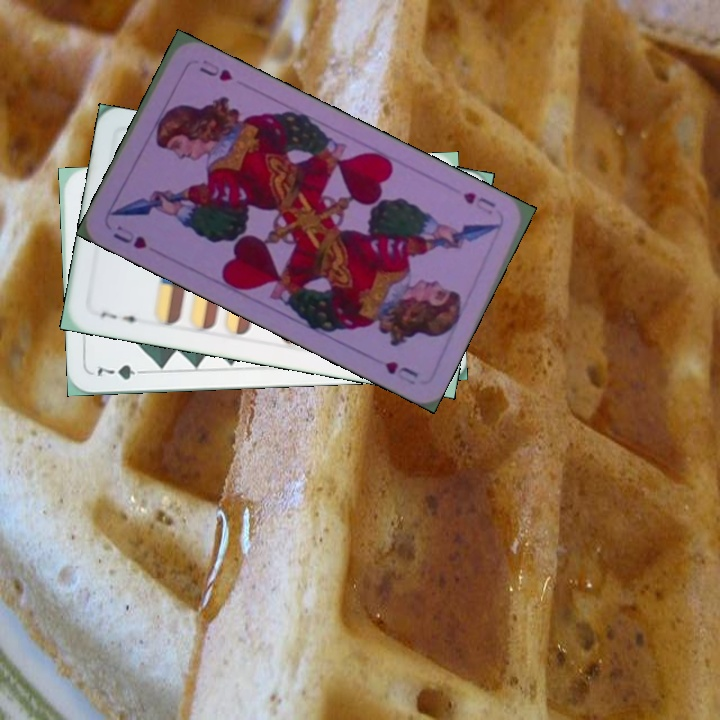E7: (96, 307, 146, 327)
G7: (91, 360, 151, 382)
HU: (108, 221, 150, 252), (458, 188, 498, 218)
